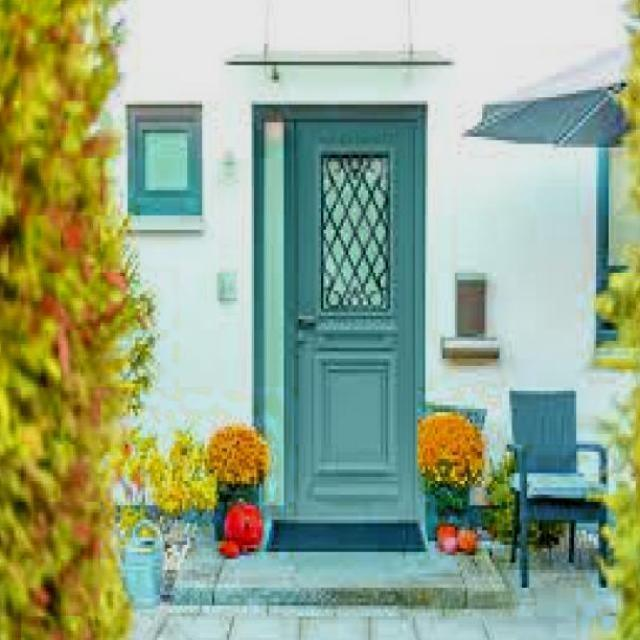door: (283, 109, 423, 524)
